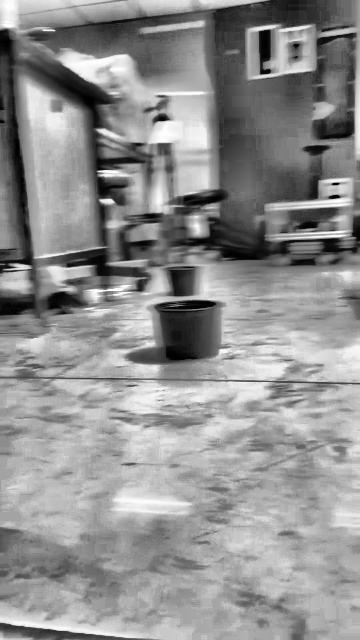pot: (150, 299, 221, 359), (164, 265, 201, 295)
